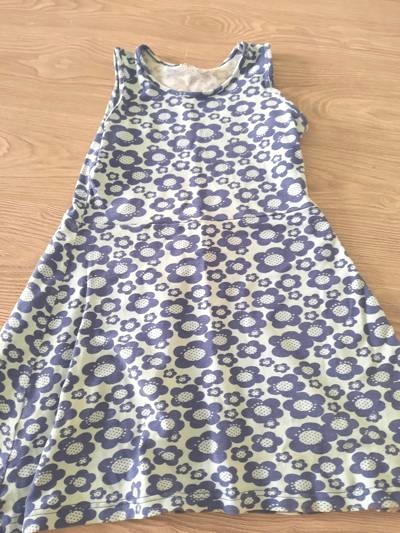Dress: (0, 32, 397, 529)
